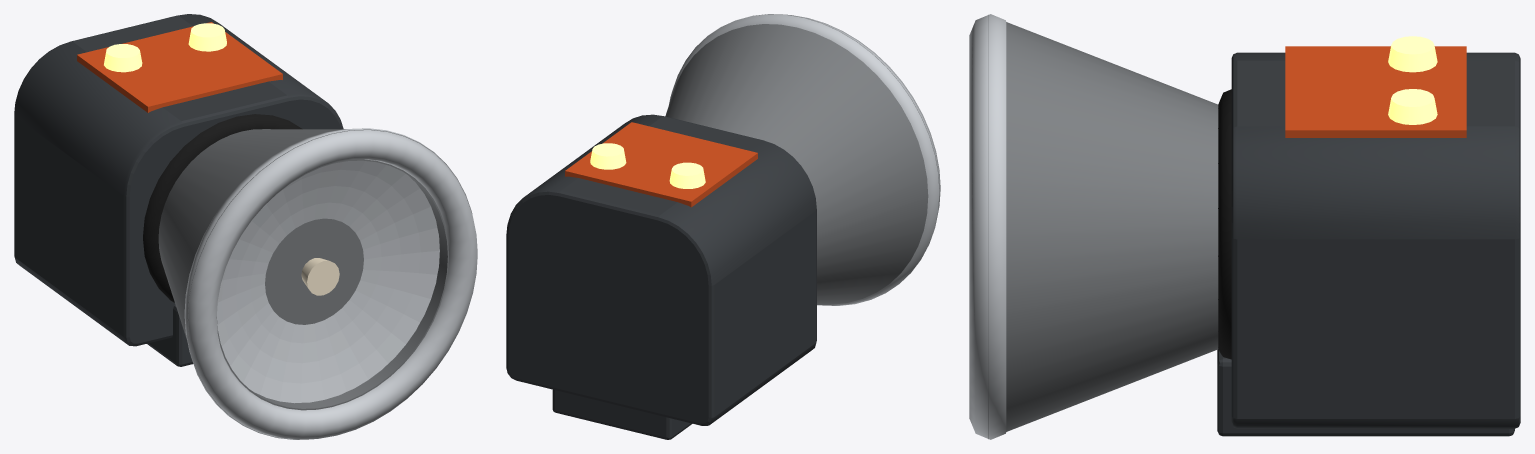
File: gauntlet_flashlight.fbx
3 renders of one model, left to right at view 1: azimuth 30°, elevation 25°; view 2: azimuth 150°, elevation 25°; view 3: azimuth 270°, elevation 25°, orthographic. The views are drawn at different scales.
Visible parts, largest first — view 1: Mesh_Flashlight_Housing, Mesh_Flashlight_Reflector, Mesh_Flashlight_Bezel, Mesh_Flashlight_Horn, Mesh_Flashlight_Panel, Mesh_Flashlight_Boot, Mesh_Flashlight_Lamps, Mesh_Flashlight_Bulb, Mesh_Flashlight_Bed; view 2: Mesh_Flashlight_Housing, Mesh_Flashlight_Horn, Mesh_Flashlight_Panel, Mesh_Flashlight_Bezel, Mesh_Flashlight_Bed, Mesh_Flashlight_Lamps; view 3: Mesh_Flashlight_Housing, Mesh_Flashlight_Horn, Mesh_Flashlight_Bezel, Mesh_Flashlight_Panel, Mesh_Flashlight_Boot, Mesh_Flashlight_Bed, Mesh_Flashlight_Lamps.
Boxes of the visible parts, <box> form: Mesh_Flashlight_Housing: <box>14,14,343,346</box>; Mesh_Flashlight_Reflector: <box>217,160,439,403</box>; Mesh_Flashlight_Bezel: <box>184,128,477,439</box>; Mesh_Flashlight_Horn: <box>158,129,472,439</box>; Mesh_Flashlight_Panel: <box>77,22,282,112</box>; Mesh_Flashlight_Boot: <box>143,114,302,302</box>; Mesh_Flashlight_Lamps: <box>104,23,226,72</box>; Mesh_Flashlight_Bulb: <box>301,258,339,295</box>; Mesh_Flashlight_Bed: <box>147,305,193,366</box>; Mesh_Flashlight_Housing: <box>506,114,816,425</box>; Mesh_Flashlight_Horn: <box>665,14,939,304</box>; Mesh_Flashlight_Panel: <box>565,122,757,207</box>; Mesh_Flashlight_Bezel: <box>669,14,940,305</box>; Mesh_Flashlight_Bed: <box>552,389,692,439</box>; Mesh_Flashlight_Lamps: <box>590,143,705,188</box>; Mesh_Flashlight_Housing: <box>1231,52,1520,428</box>; Mesh_Flashlight_Horn: <box>988,15,1218,438</box>; Mesh_Flashlight_Bezel: <box>969,14,1006,439</box>; Mesh_Flashlight_Panel: <box>1285,46,1466,137</box>; Mesh_Flashlight_Boot: <box>1218,89,1231,359</box>; Mesh_Flashlight_Bed: <box>1217,349,1514,436</box>; Mesh_Flashlight_Lamps: <box>1388,36,1437,124</box>.
Size of the model in its own units: 30.1 by 30.1 by 38.9.
